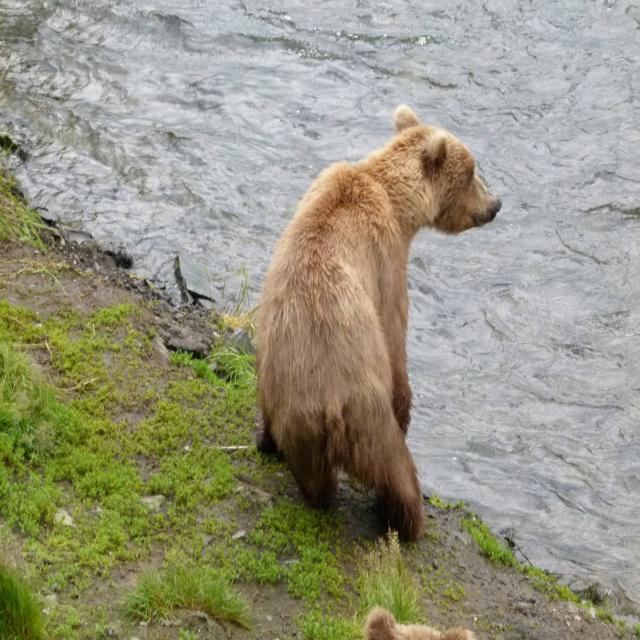bear face: (258, 105, 504, 544), (365, 603, 476, 640)
